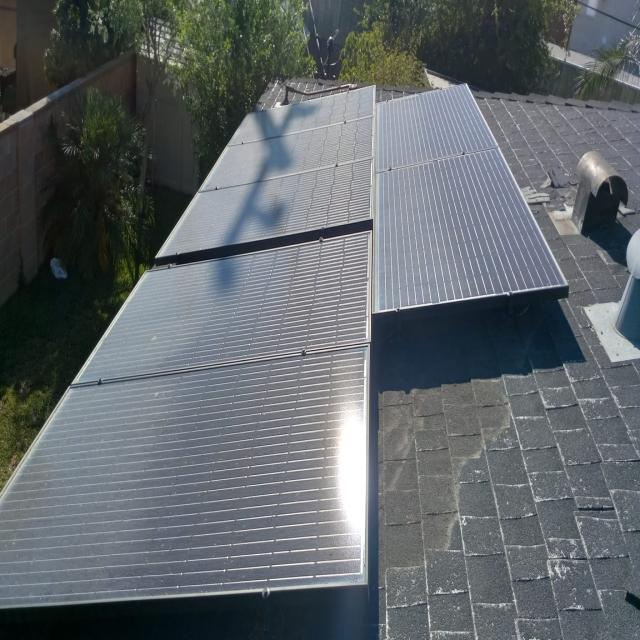dust-solar-panel: (0, 85, 378, 614)
